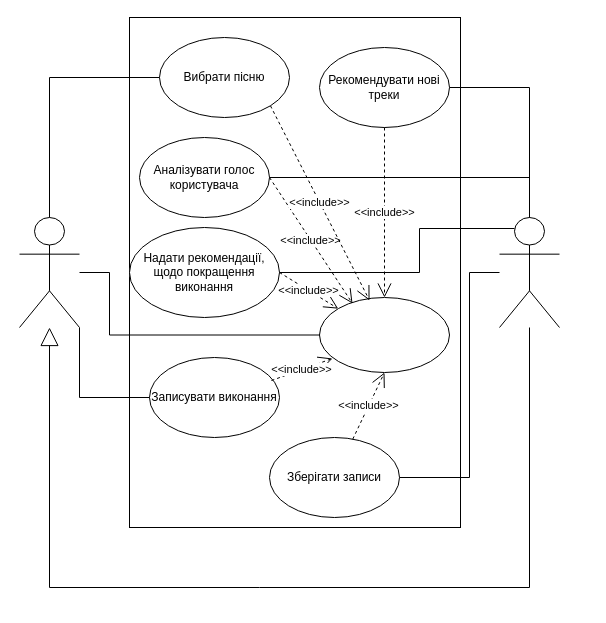
This 606x623 diagram has some shape labels left out. Here are the shapes that lost their labels. From the top down, the centre of each, then its label:
At pixel 49 272: "Користувач".
At pixel 529 272: "Додаток Vocal Mentor".
At pixel 384 334: "Авторизація користувача".
